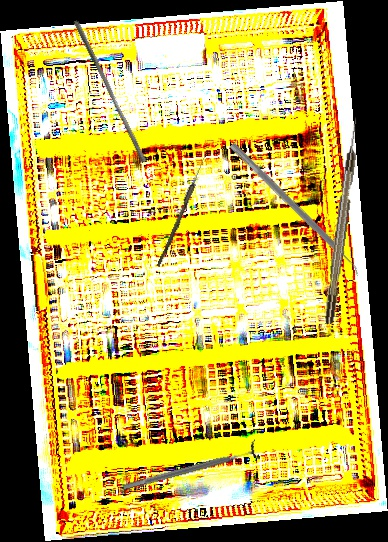Fixation Ring: (120, 438, 261, 498)
Hook Surgical: (322, 116, 363, 325)
Pusher: (67, 19, 152, 164)
Spatula Surgical: (224, 142, 365, 279)
Surgical Spoon: (156, 154, 208, 268)
